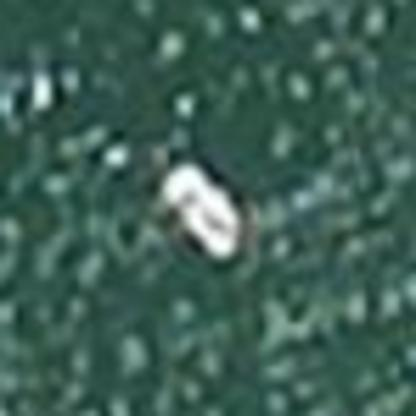ship: (132, 148, 270, 269)
